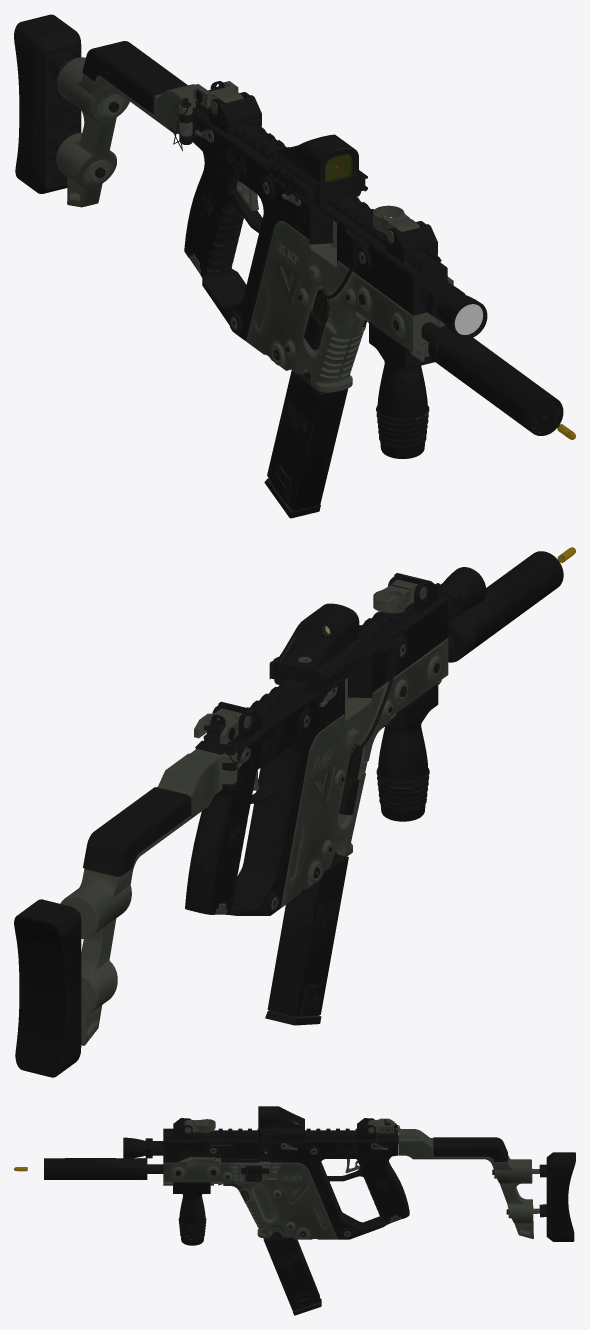
The model's file is kriss-vector.glb.
The picture shows the model from 3 angles, top to bottom: view 1: azimuth 30°, elevation 25°; view 2: azimuth 150°, elevation 25°; view 3: azimuth 270°, elevation 25°; orthographic projection. The views are drawn at different scales.
Visible parts, largest first — view 1: Body291, Body651, Body341, Body440, Body334, Body803, Body812, Body704, Body332, Body719, Body347, Body483 (+6 smaller); view 2: Body291, Body651, Body341, Body334, Body440, Body812, Body803, Body332, Body704, Body719, Body347, Body505 (+5 smaller); view 3: Body291, Body651, Body334, Body440, Body341, Body803, Body812, Body332, Body719, Body704, Body347, Body831 (+5 smaller).
Boxes of the visible parts, box(x1,y1,x2,y2) form: Body291: box(179, 107, 447, 340); Body651: box(246, 221, 445, 392); Body341: box(14, 14, 81, 193); Body440: box(264, 370, 348, 518); Body334: box(56, 57, 202, 207); Body803: box(421, 322, 563, 435); Body812: box(369, 321, 434, 458); Body704: box(273, 134, 360, 205); Body332: box(82, 41, 187, 113); Body719: box(194, 100, 441, 272); Body347: box(419, 279, 487, 339); Body483: box(209, 92, 261, 134); Body291: box(185, 595, 447, 915); Body651: box(281, 638, 448, 907); Body341: box(14, 899, 81, 1077); Body334: box(60, 749, 237, 1045); Body440: box(265, 852, 348, 1025); Body812: box(376, 683, 438, 821); Body803: box(448, 551, 563, 662); Body332: box(83, 787, 191, 876); Body704: box(274, 603, 361, 693); Body719: box(195, 583, 441, 754); Body347: box(440, 567, 486, 622); Body505: box(373, 579, 417, 613); Body291: box(163, 1132, 409, 1239); Body651: box(163, 1161, 337, 1239); Body334: box(396, 1127, 533, 1238); Body440: box(263, 1232, 321, 1315); Body341: box(539, 1152, 575, 1241); Body803: box(44, 1158, 163, 1179); Body812: box(173, 1182, 210, 1245); Body332: box(433, 1137, 507, 1161); Body719: box(163, 1128, 398, 1138); Body704: box(258, 1106, 304, 1141); Body347: box(123, 1137, 163, 1158); Body831: box(261, 1133, 302, 1142).
Size of the model in its own units: 0.3943 by 2.13 by 5.33.
1 material, 1 textured.
